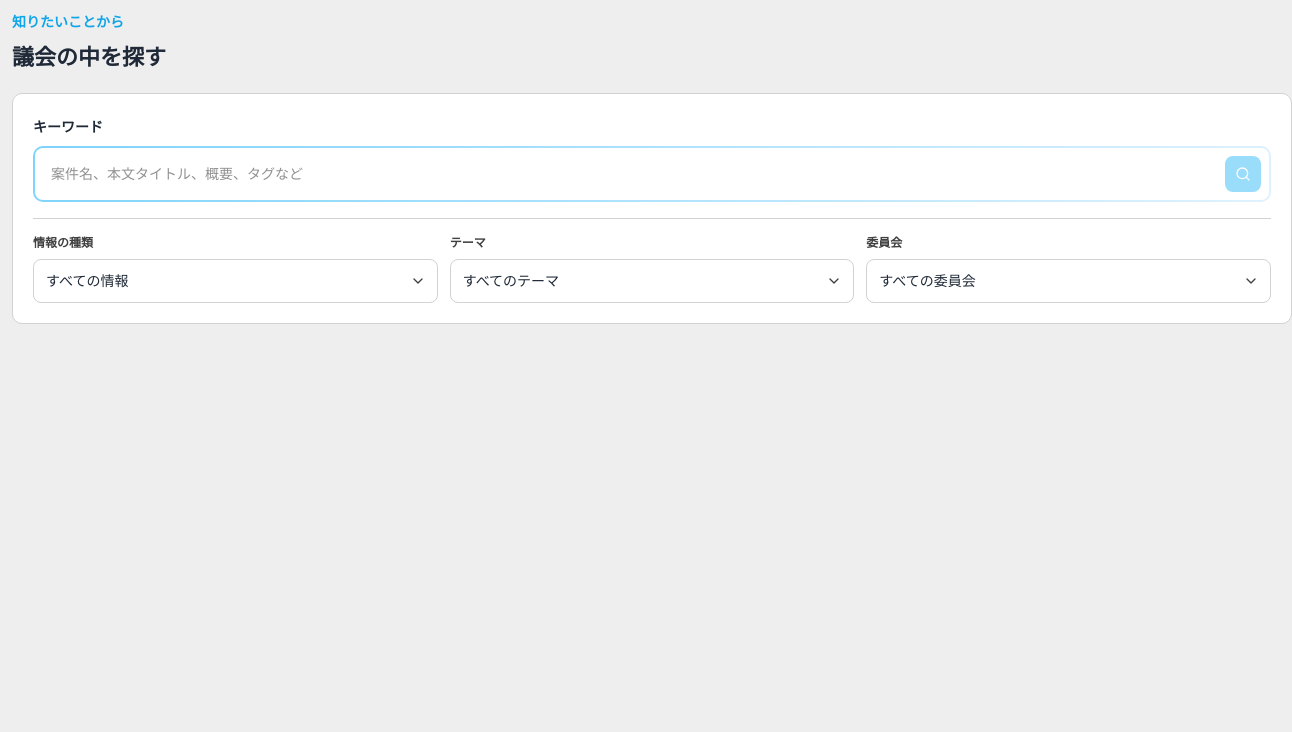
Scenario: CouncilSearchSection › 検索失敗後に同じ条件で再試行できる
The width and height of the screenshot is (1292, 732).
In the search field labelled "キーワード": (652, 174) [35,148,1269,200], type "学校"
Then press Enter
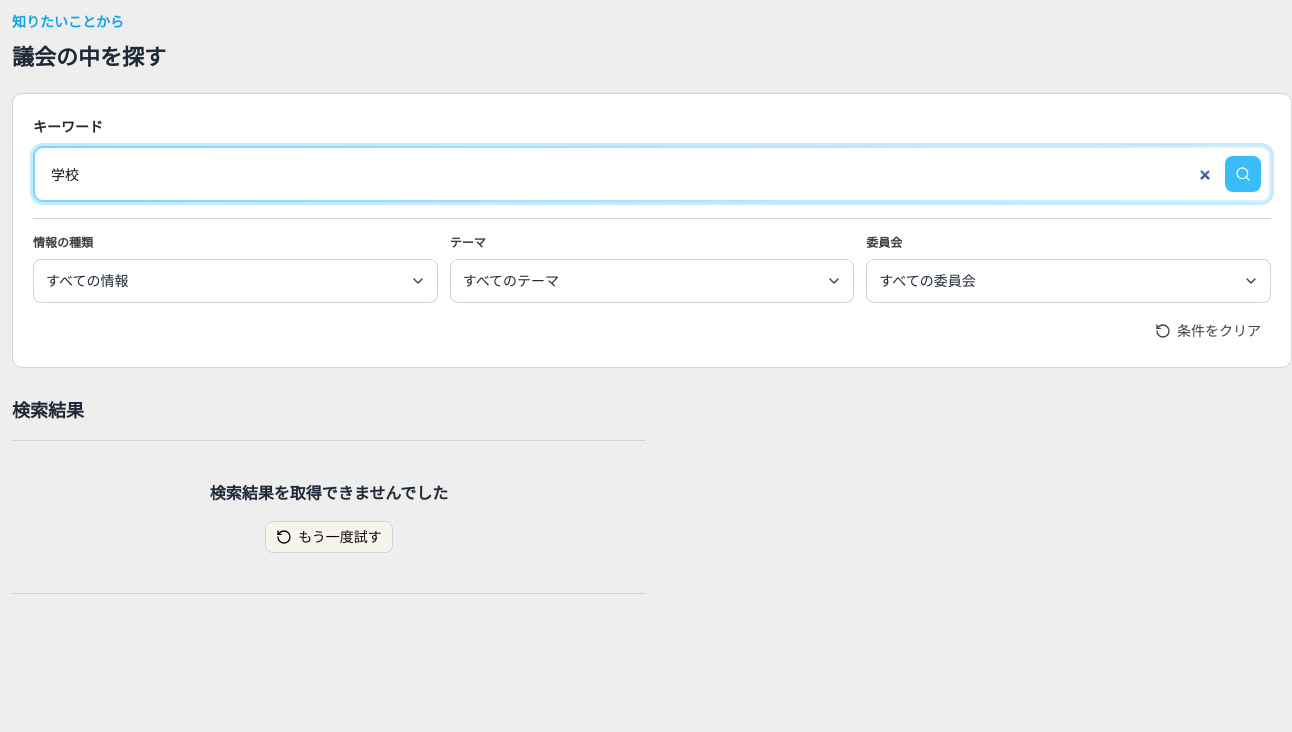
Click the button "もう一度試す": click(329, 536) [265,520,393,552]
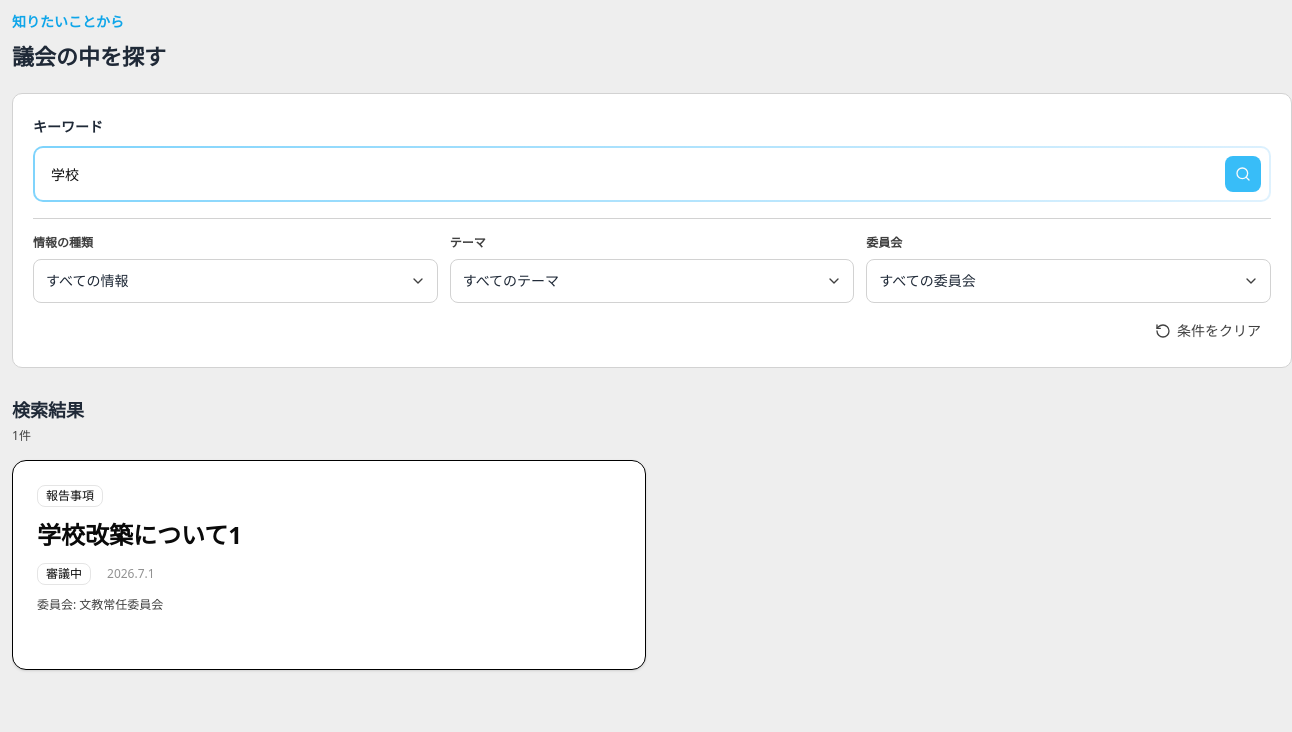
Expected: the text "学校改築について1" is shown, [37,518,242,550]
